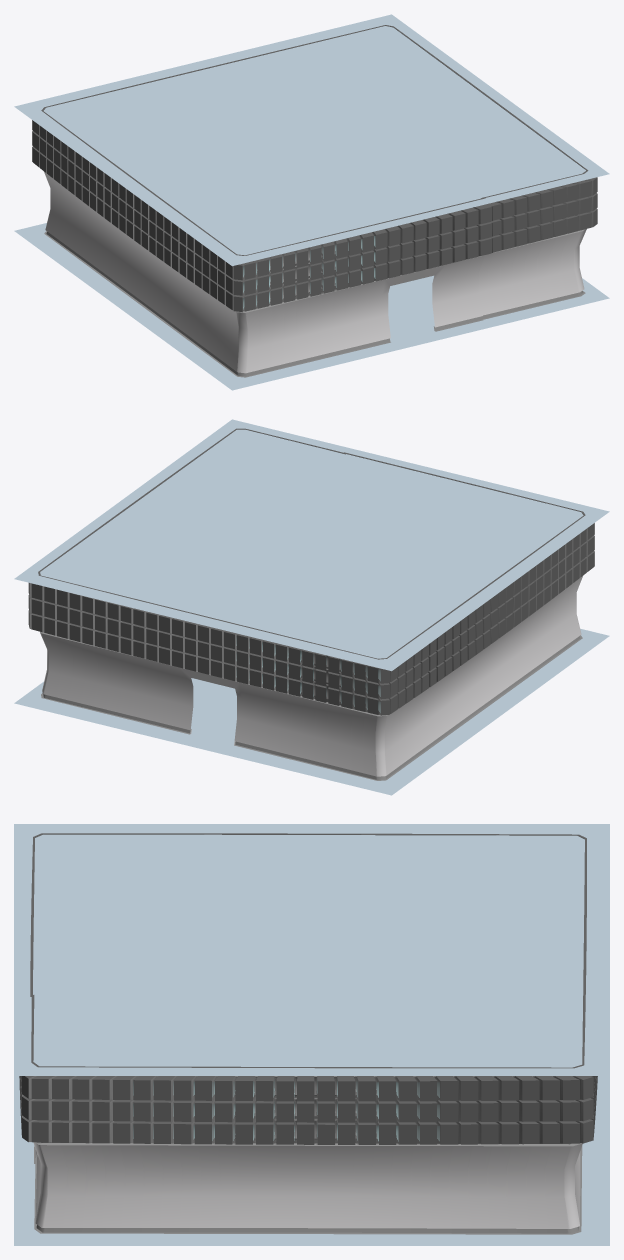
The model's file is small_conference_2.fbx.
3 views of the same model, one above another, from view 1: azimuth 30°, elevation 25°; view 2: azimuth 150°, elevation 25°; view 3: azimuth 270°, elevation 25° (orthographic). The views are drawn at different scales.
Parts seen in each view (by area): view 1: m_floor.001; view 2: m_floor.001; view 3: m_floor.001.
Part boxes in pixels (x1,y1,x2,y2): m_floor.001: [14, 14, 609, 390]; m_floor.001: [14, 419, 609, 795]; m_floor.001: [14, 824, 609, 1245].
Bounding box in the file's own units: 1515 × 478 × 1515.
